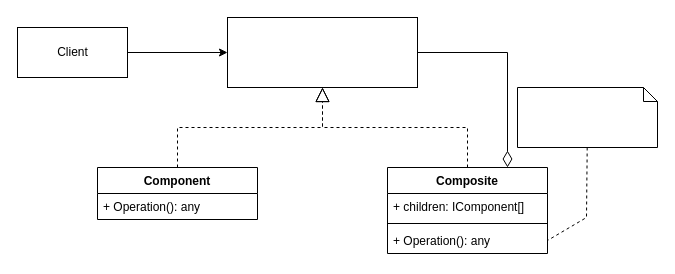
This 675x274 diagram has some shape labels left out. The centre of each missing label's shape, as x and y in pixels:
<<Interface>> IComponent + Operation(): any: point 322,52
Calls the Operation() method of each of its children.: point 587,117
